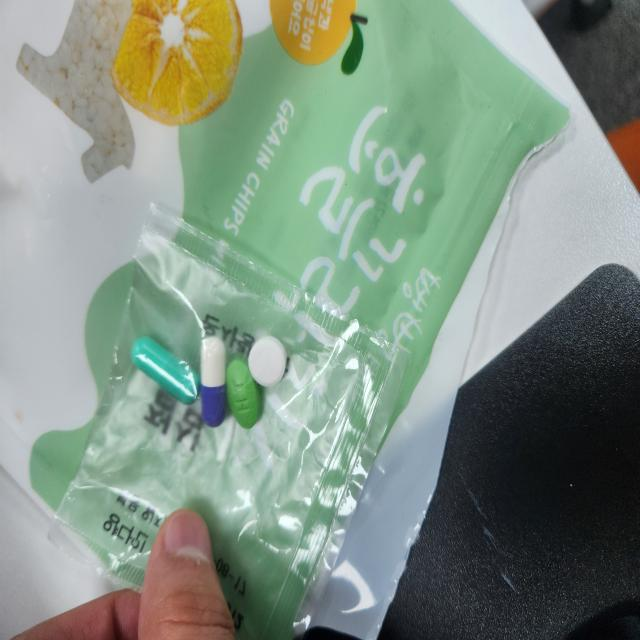러키펜정: (248, 336, 290, 391)
씨엠지세파클러캡슐: (200, 336, 231, 428)
에르도캡슐: (129, 334, 200, 407)
휴티렌정: (228, 355, 265, 430)
